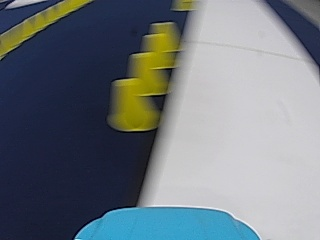cone: (106, 76, 157, 131), (125, 50, 167, 96), (142, 27, 179, 58)
